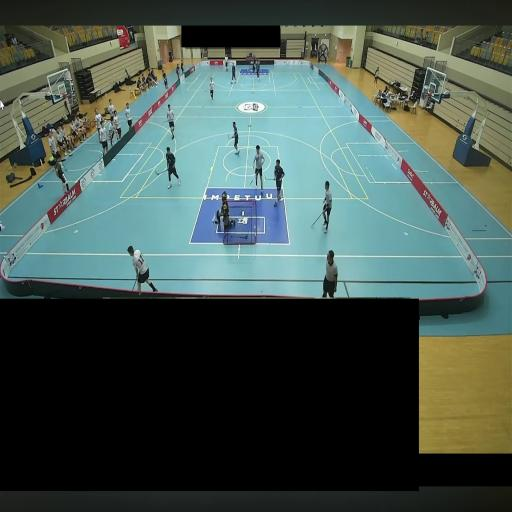Goalkeeper: (216, 191, 235, 234), (253, 56, 256, 71)
Player: (127, 246, 157, 292), (166, 147, 181, 188), (253, 145, 265, 192), (322, 181, 332, 233), (274, 159, 285, 206), (231, 121, 239, 154), (167, 104, 174, 139), (210, 77, 215, 101), (231, 63, 236, 84), (255, 62, 260, 80)
Referee: (322, 250, 338, 297), (224, 54, 228, 71)
